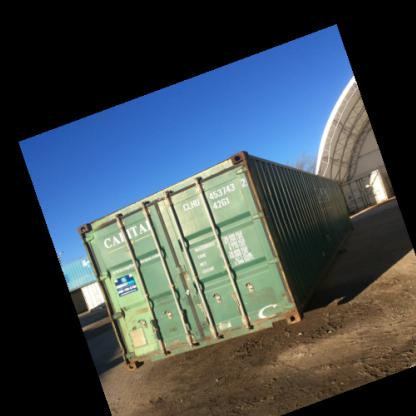Damage: (246, 281, 278, 319), (190, 304, 214, 335), (160, 308, 186, 334), (212, 313, 233, 333)
